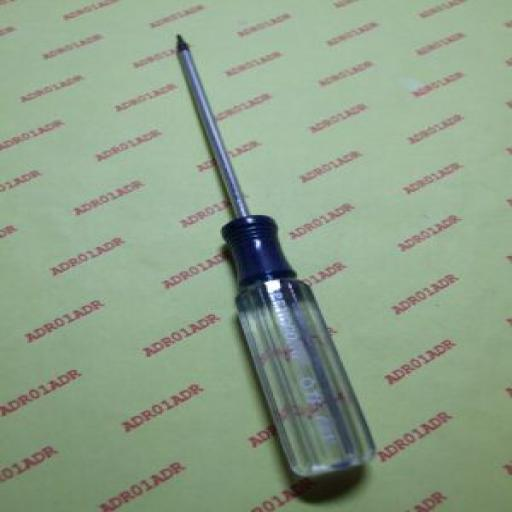screwdriver: (174, 34, 377, 477)
